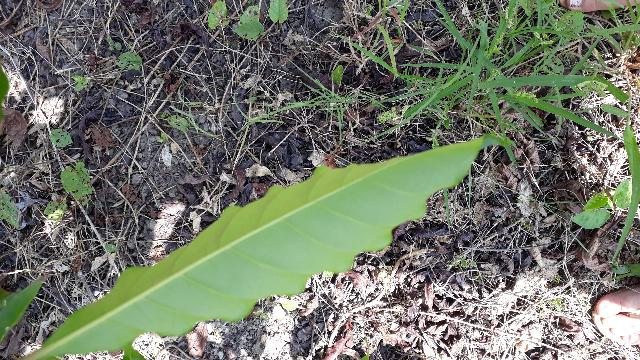healthy: (38, 136, 502, 354)
